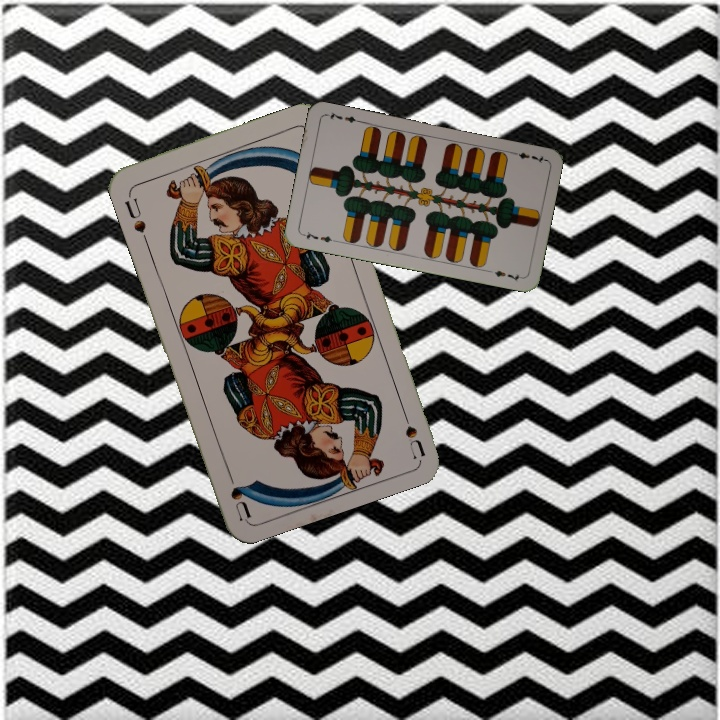E7: (299, 227, 339, 245), (507, 148, 547, 166)
SU: (396, 401, 427, 460), (120, 188, 151, 246)
